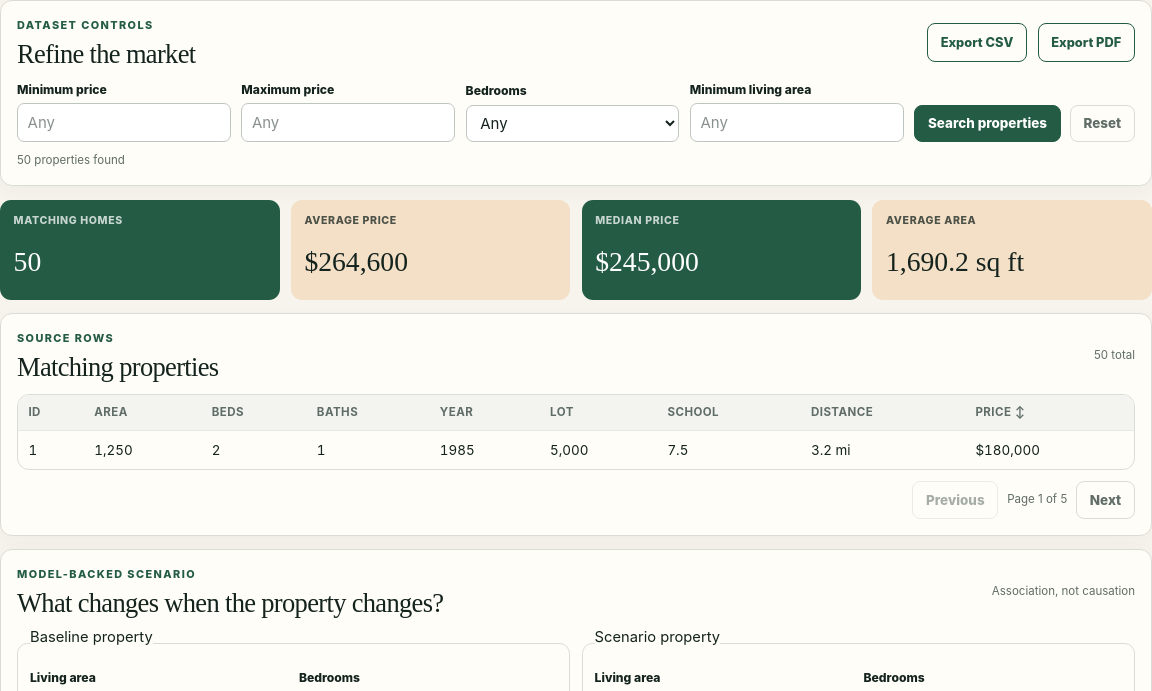
Test: MarketDashboard › refreshes summary and rows with the same filters
This screenshot has width=1152, height=691.
Select "3" in the dropdown labelled "Bedrooms" at (573, 123), box [466, 105, 680, 142]
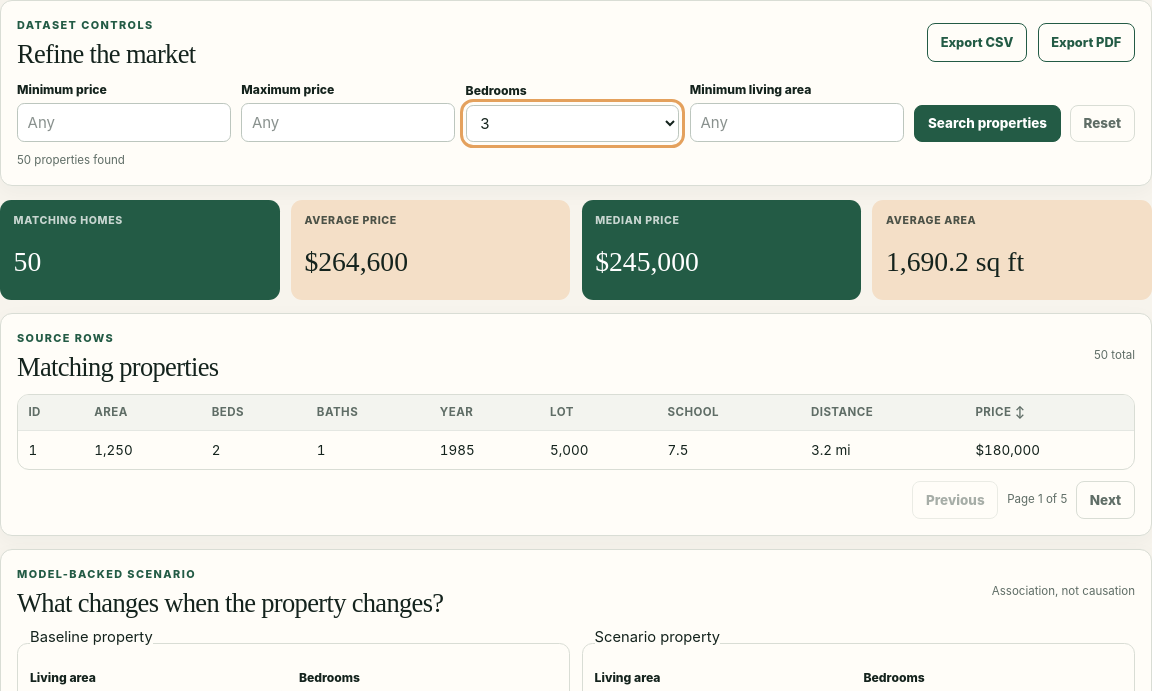
Click the button "Search properties".
click(988, 123)  # box [914, 105, 1061, 142]
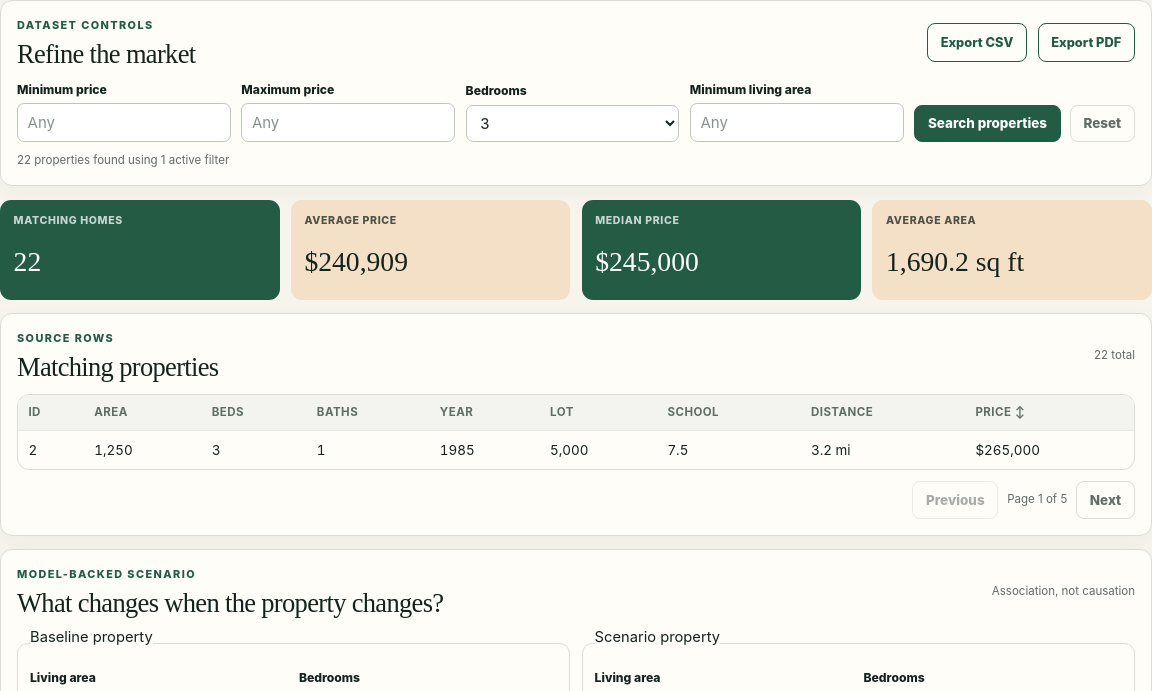
Check: the text "22" is shown, box [14, 246, 41, 277]
